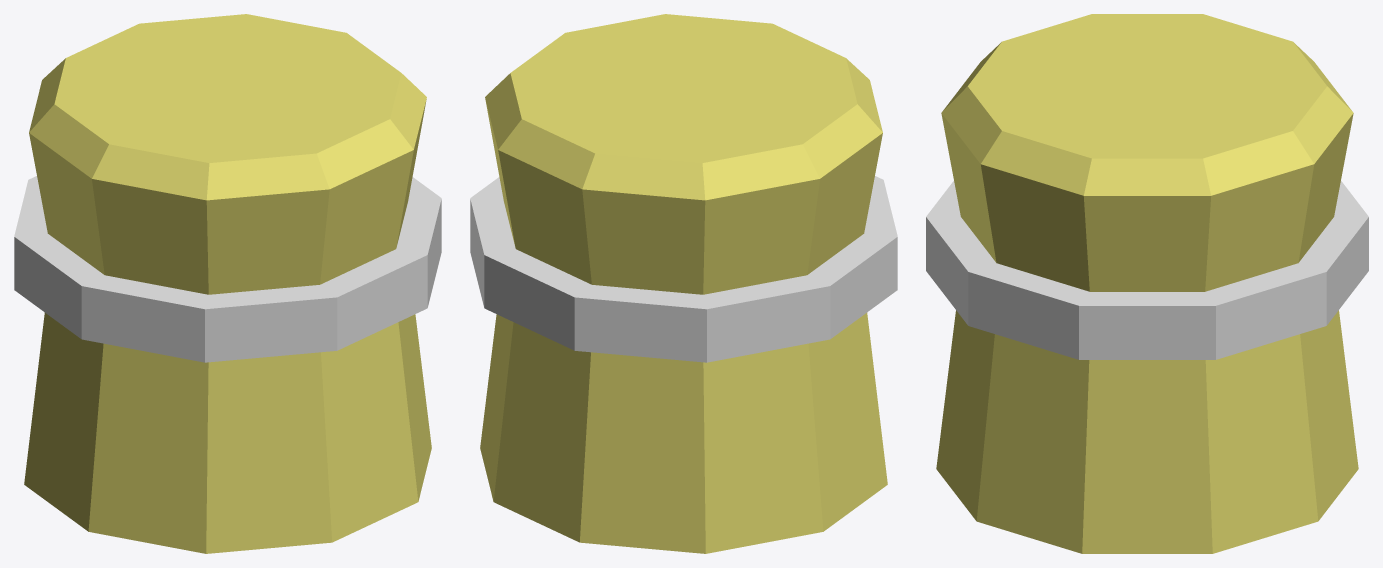
Rendered from SM_Haystack.fbx.
The picture shows the model from 3 angles, left to right: view 1: azimuth 30°, elevation 25°; view 2: azimuth 150°, elevation 25°; view 3: azimuth 270°, elevation 25°; orthographic projection.
Parts seen in each view (by area): view 1: SM_Haystack; view 2: SM_Haystack; view 3: SM_Haystack.
Part boxes in pixels (x1,y1,x2,y2): SM_Haystack: (14, 14, 441, 553); SM_Haystack: (470, 14, 897, 553); SM_Haystack: (926, 14, 1368, 553).
Size of the model in its own units: 0.3728 by 0.392 by 0.3738.
